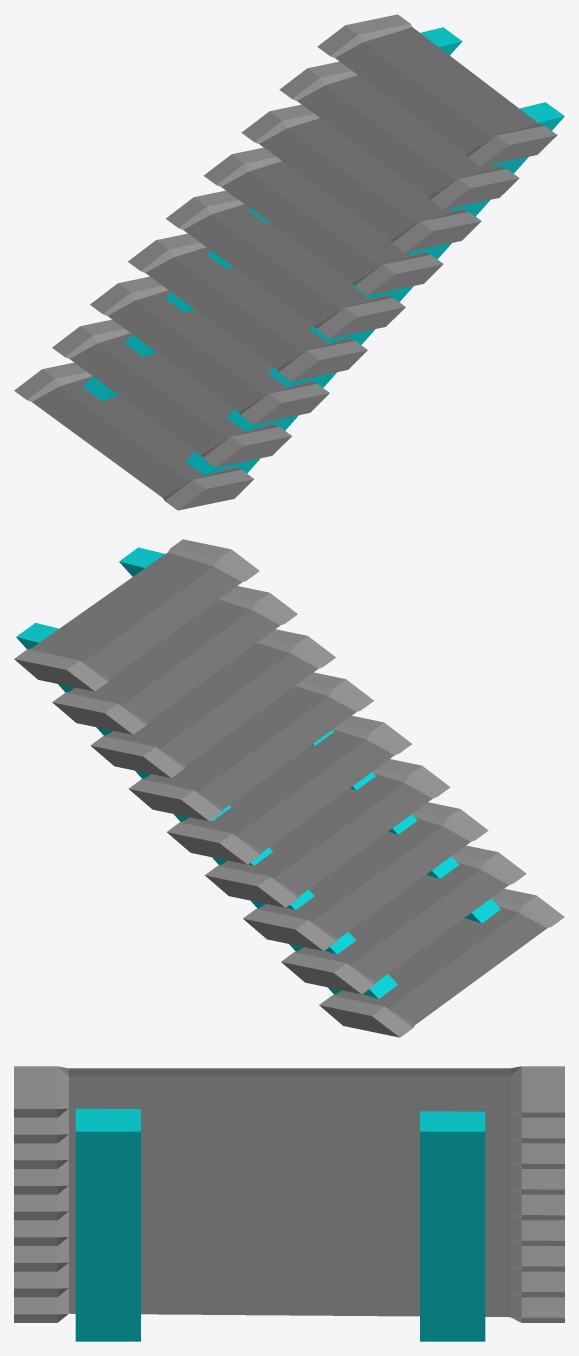
The model's file is SM_B_Stairs3.fbx.
3 views of the same model, one above another, from view 1: azimuth 30°, elevation 25°; view 2: azimuth 150°, elevation 25°; view 3: azimuth 270°, elevation 25° (orthographic). The views are drawn at different scales.
Visible parts, largest first — view 1: SM_B_Stairs3; view 2: SM_B_Stairs3; view 3: SM_B_Stairs3.
Boxes of the visible parts, bbox=[...] form: SM_B_Stairs3: bbox=[14, 14, 564, 510]; SM_B_Stairs3: bbox=[14, 539, 564, 1037]; SM_B_Stairs3: bbox=[14, 1066, 564, 1341].
Size of the model in its own units: 511 by 358 by 345.
1 material, 1 textured.
